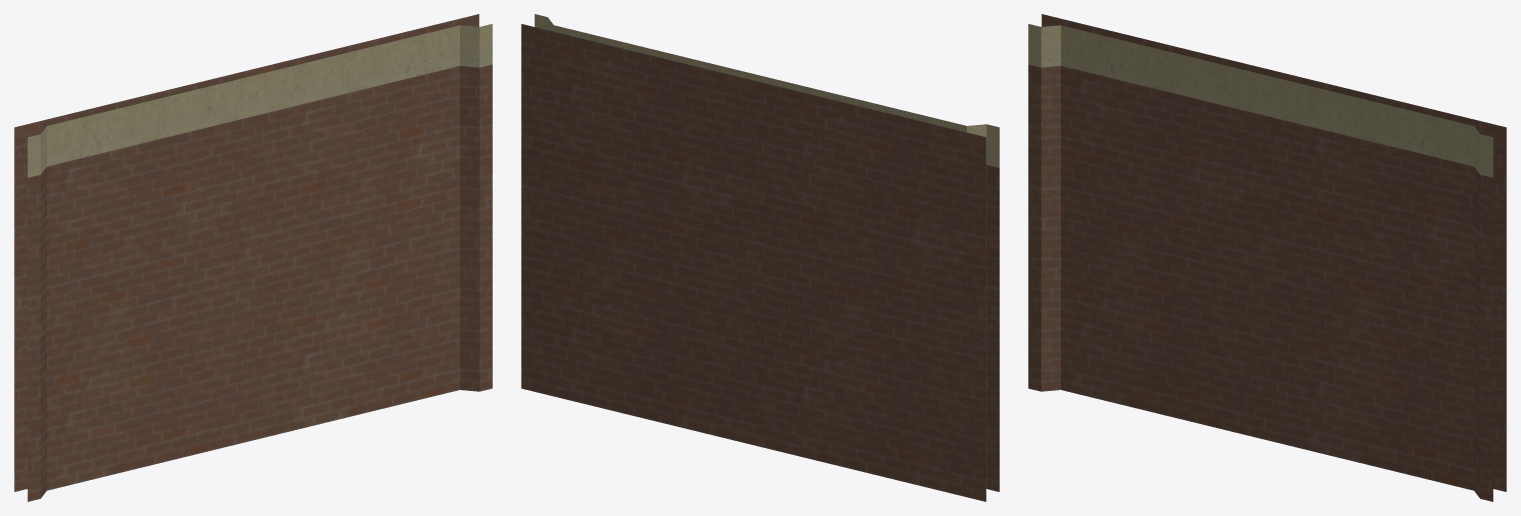
File: Brick_Inset.gltf
3 views of the same model, side by side, from view 1: azimuth 30°, elevation 25°; view 2: azimuth 150°, elevation 25°; view 3: azimuth 330°, elevation 25° (orthographic).
Parts seen in each view (by area): view 1: Brick_Inset; view 2: Brick_Inset; view 3: Brick_Inset.
Part boxes in pixels (<box>): Brick_Inset: <box>14,14,492,501</box>; Brick_Inset: <box>521,14,999,501</box>; Brick_Inset: <box>1028,14,1506,501</box>.
Bounding box in the file's own units: 4 × 3 × 0.2.
3 materials, 3 textured.
